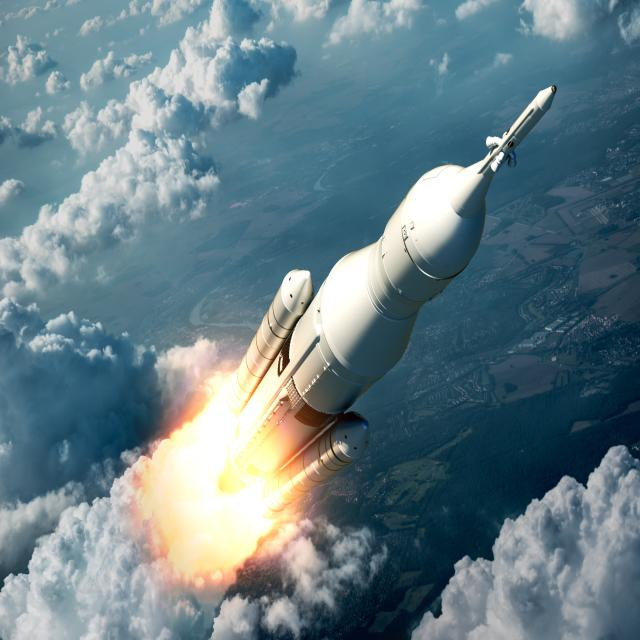rocket: (205, 64, 580, 531)
